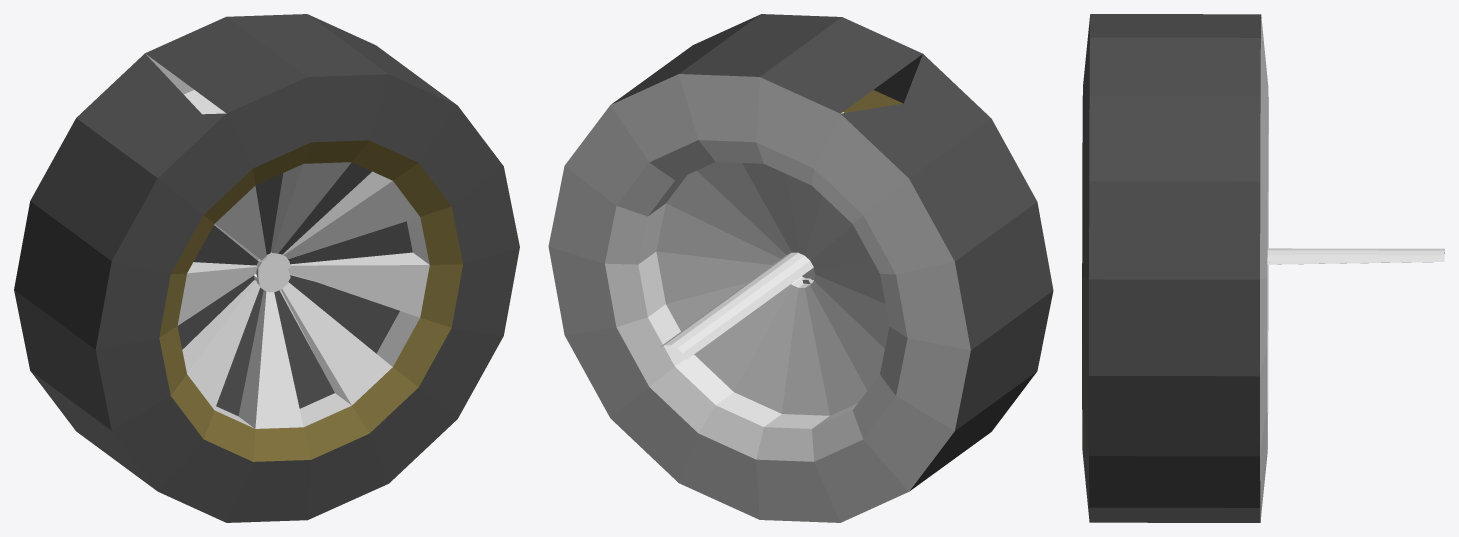
The model's file is BMW-Tire-Right.fbx.
3 renders of one model, left to right at view 1: azimuth 30°, elevation 25°; view 2: azimuth 150°, elevation 25°; view 3: azimuth 270°, elevation 25°, orthographic. The views are drawn at different scales.
Parts seen in each view (by area): view 1: BMW.001; view 2: BMW.001; view 3: BMW.001.
Part boxes in pixels (x1,y1,x2,y2): BMW.001: [14, 14, 519, 522]; BMW.001: [548, 14, 1053, 522]; BMW.001: [1082, 14, 1444, 522].
Bounding box in the file's own units: 201 × 201 × 143.
